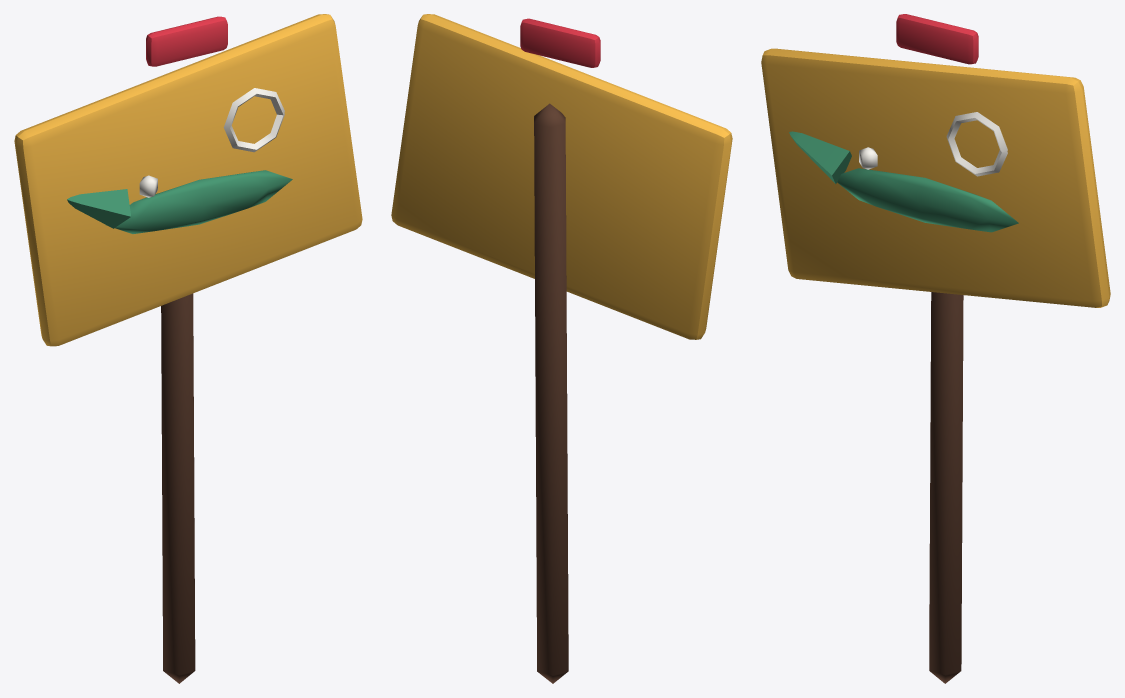
File: W3_Sign_Croc.fbx
3 views of the same model, side by side, from view 1: azimuth 30°, elevation 25°; view 2: azimuth 150°, elevation 25°; view 3: azimuth 330°, elevation 25° (orthographic). The views are drawn at different scales.
Visible parts, largest first — view 1: W3_Sign_Croc; view 2: W3_Sign_Croc; view 3: W3_Sign_Croc.
Part boxes in pixels (bbox=[...]): W3_Sign_Croc: bbox=[14, 14, 362, 683]; W3_Sign_Croc: bbox=[391, 14, 732, 683]; W3_Sign_Croc: bbox=[761, 14, 1110, 683].
Size of the model in its own units: 1.29 by 2.37 by 0.282.
